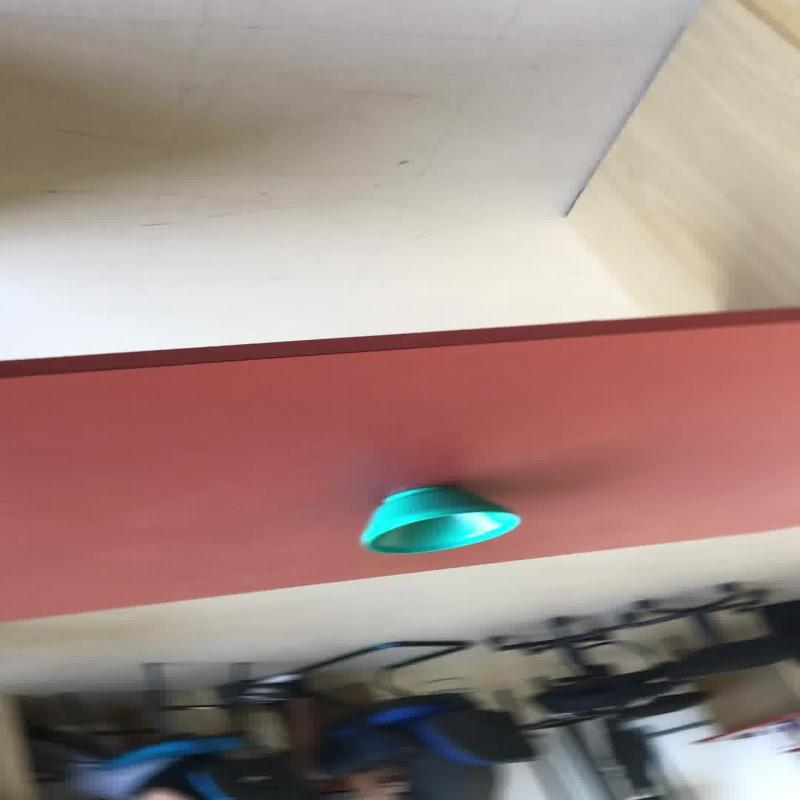bowl: (358, 484, 522, 554)
